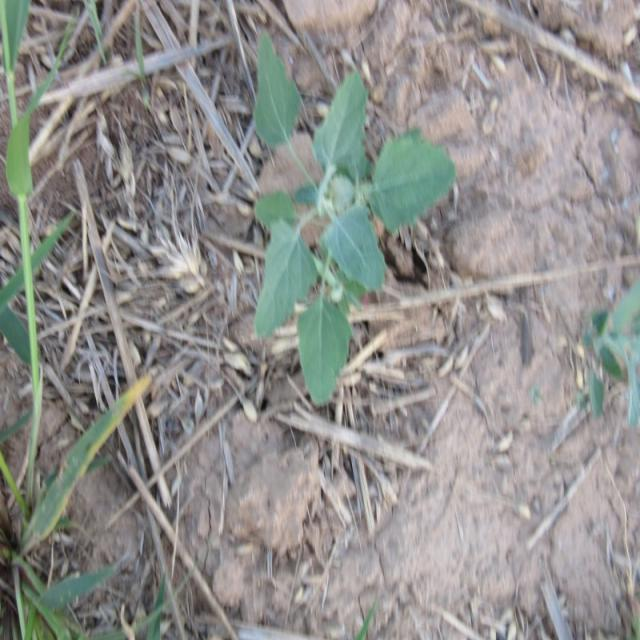ca: (244, 28, 456, 400)
